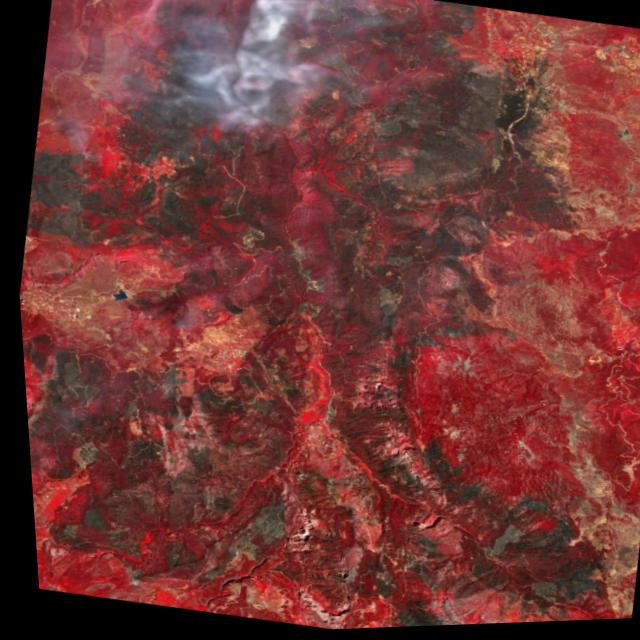fire: (198, 0, 311, 52), (54, 132, 124, 188), (150, 298, 212, 349)
